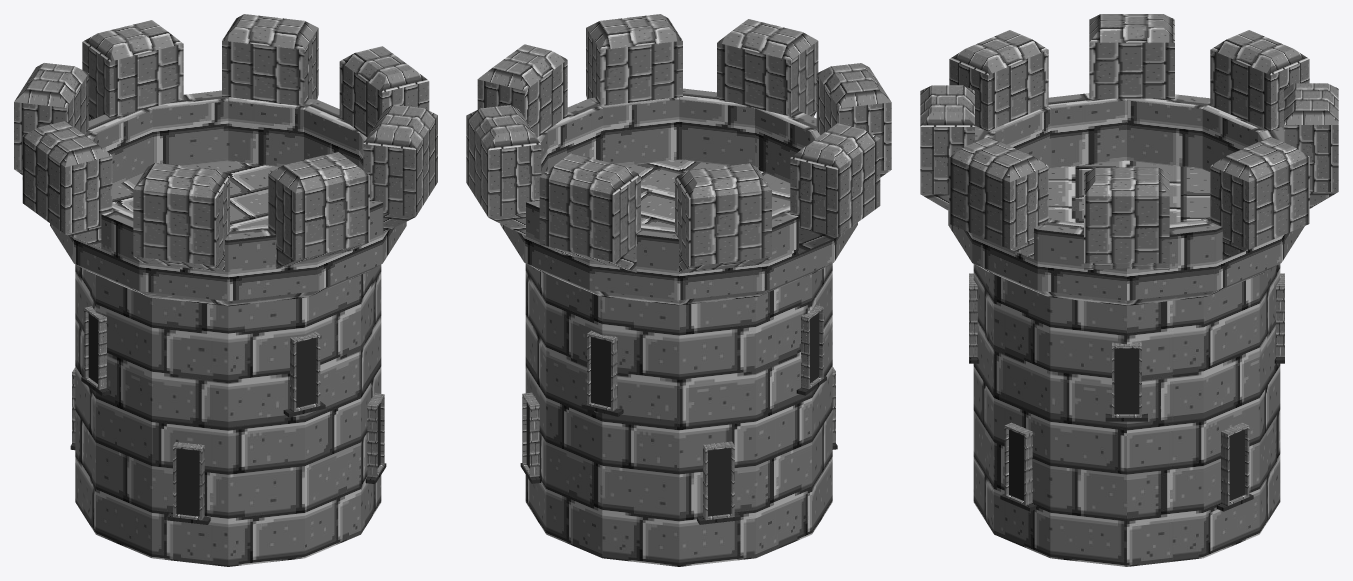
Rendered from Tower.fbx.
3 renders of one model, left to right at view 1: azimuth 30°, elevation 25°; view 2: azimuth 150°, elevation 25°; view 3: azimuth 270°, elevation 25°, orthographic.
Visible parts, largest first — view 1: Base, Cube, Up, Cube.001, Windows; view 2: Base, Cube, Cube.001, Up, Windows; view 3: Base, Cube.001, Up, Cube, Windows.
Boxes of the visible parts, left/top/right/bottom form: Base: left=75, top=161, right=381, bottom=566; Cube: left=22, top=20, right=429, bottom=268; Up: left=50, top=90, right=406, bottom=306; Cube.001: left=14, top=14, right=437, bottom=272; Windows: left=70, top=306, right=386, bottom=524; Base: left=525, top=160, right=832, bottom=566; Cube: left=477, top=19, right=880, bottom=272; Cube.001: left=466, top=14, right=891, bottom=273; Up: left=500, top=88, right=857, bottom=305; Windows: left=520, top=305, right=837, bottom=524; Base: left=973, top=160, right=1280, bottom=566; Cube.001: left=949, top=30, right=1309, bottom=259; Up: left=948, top=93, right=1304, bottom=305; Cube: left=920, top=14, right=1338, bottom=270; Windows: left=969, top=273, right=1284, bottom=511.
Bounding box in the file's own units: 273 × 291 × 273.
